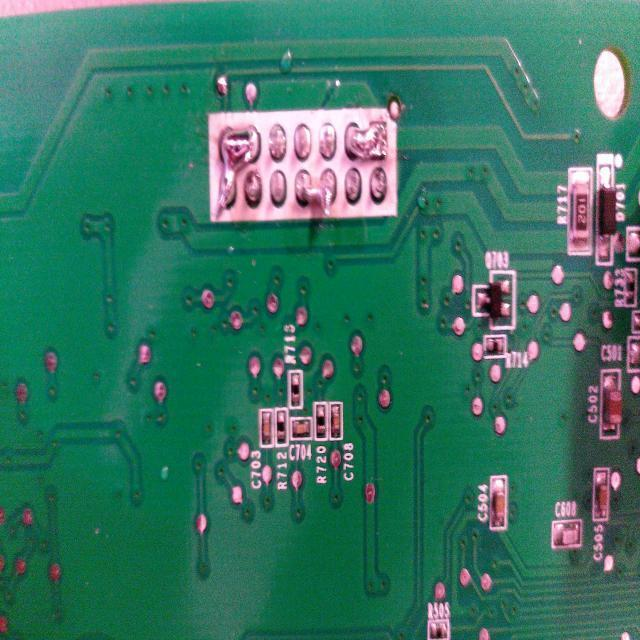Soldering shorted: (216, 125, 262, 218), (293, 166, 338, 216), (344, 114, 388, 162)
